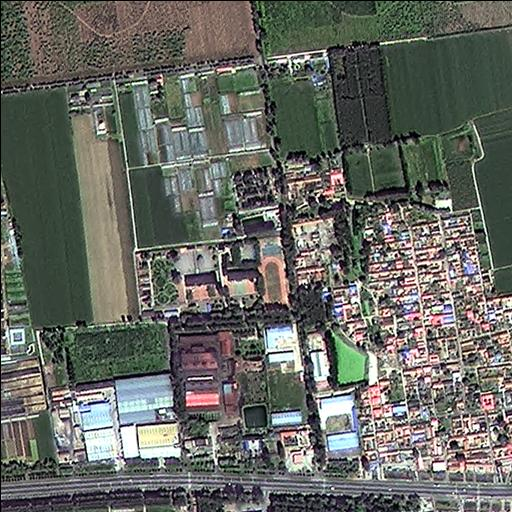school: (133, 233, 293, 320)
